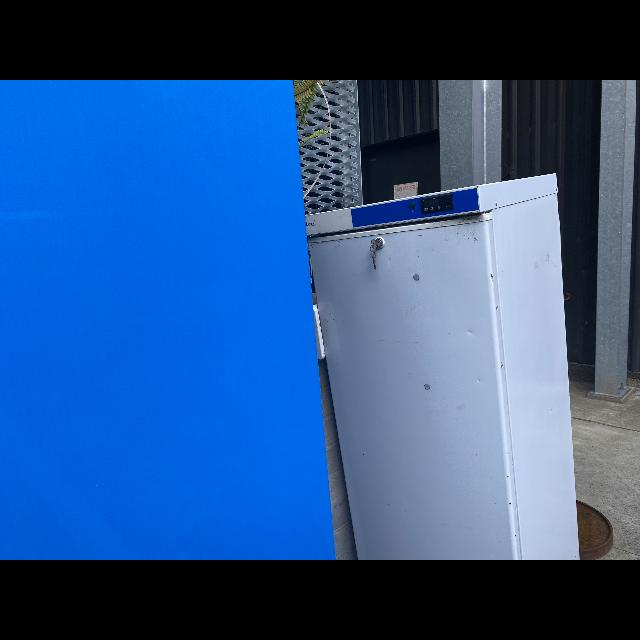Ferrous Metal: (0, 80, 334, 560), (308, 176, 578, 560), (502, 80, 601, 365), (355, 80, 439, 147), (627, 80, 640, 378), (576, 500, 613, 560), (306, 207, 354, 237)
Galvanized Steel: (594, 80, 635, 395), (303, 81, 363, 215), (439, 80, 502, 192), (298, 88, 330, 195)
